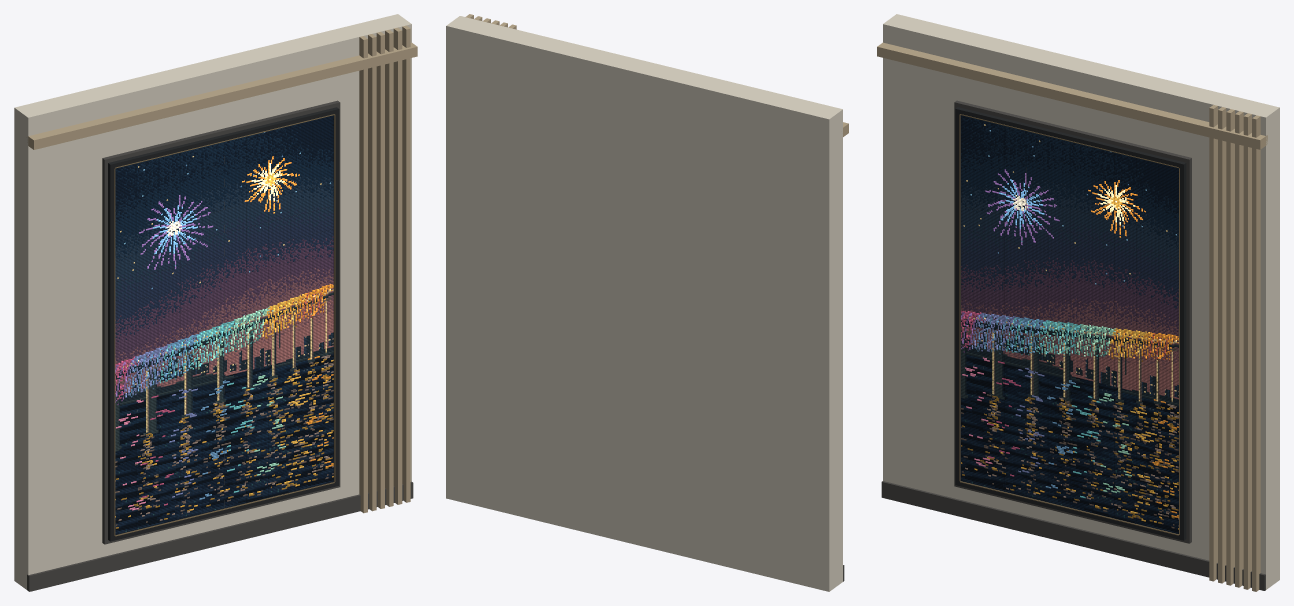
Rendered from mosaic.glb.
3 renders of one model, left to right at view 1: azimuth 30°, elevation 25°; view 2: azimuth 150°, elevation 25°; view 3: azimuth 330°, elevation 25°, orthographic.
Parts seen in each view (by area): view 1: GangnamLegoRiverWall; view 2: GangnamLegoRiverWall; view 3: GangnamLegoRiverWall.
Part boxes in pixels (bbox=[...]): GangnamLegoRiverWall: bbox=[14, 14, 417, 591]; GangnamLegoRiverWall: bbox=[446, 14, 848, 591]; GangnamLegoRiverWall: bbox=[877, 14, 1279, 591].
Bounding box in the file's own units: 2.24 × 2.64 × 0.198.
Materials: 1 (1 with a texture image).
